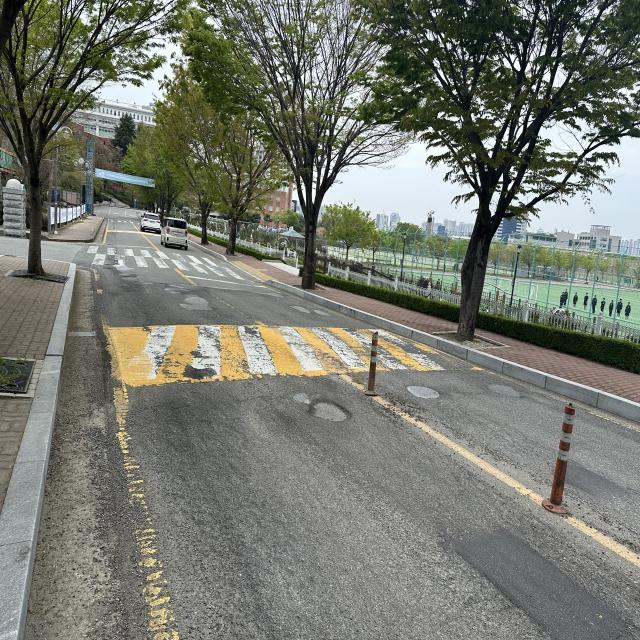pothole: (304, 388, 356, 428)
